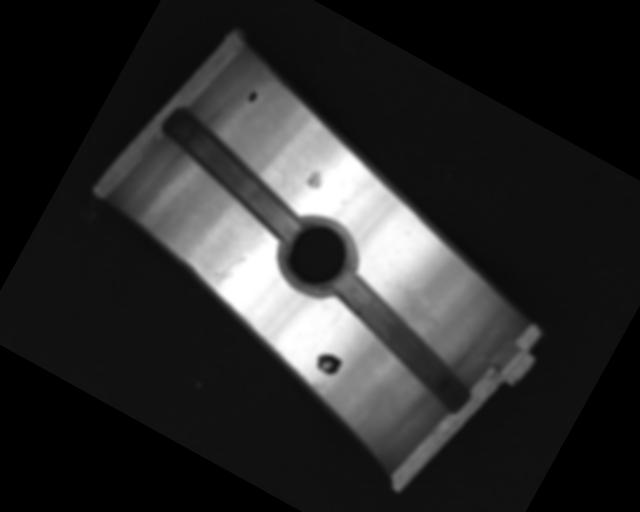blot: (312, 348, 345, 379), (245, 89, 260, 105)
bruise: (304, 166, 327, 192)
gap: (309, 267, 495, 414), (143, 102, 323, 239)
hole: (269, 205, 369, 306)
nick: (207, 246, 248, 295)
scratch: (387, 275, 475, 352)
